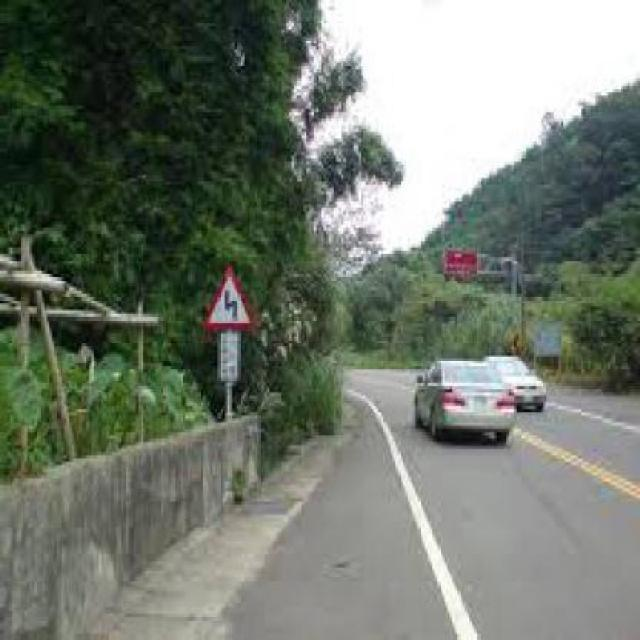warn_double_curve: (202, 261, 258, 330)
